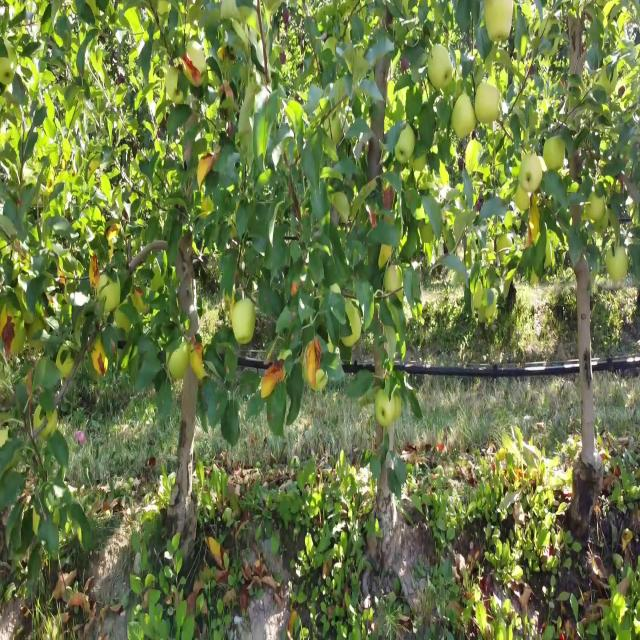apple: (449, 93, 476, 143), (482, 0, 514, 41), (232, 296, 256, 346), (95, 269, 122, 313), (427, 43, 453, 88), (339, 301, 363, 349), (474, 82, 500, 124), (182, 39, 206, 81), (518, 152, 543, 192), (33, 401, 56, 442), (384, 260, 406, 302), (166, 338, 188, 379), (164, 65, 186, 106), (605, 245, 628, 283), (542, 135, 565, 172), (394, 122, 414, 164), (56, 340, 75, 379), (374, 388, 392, 426), (587, 192, 605, 222), (412, 137, 426, 172)
